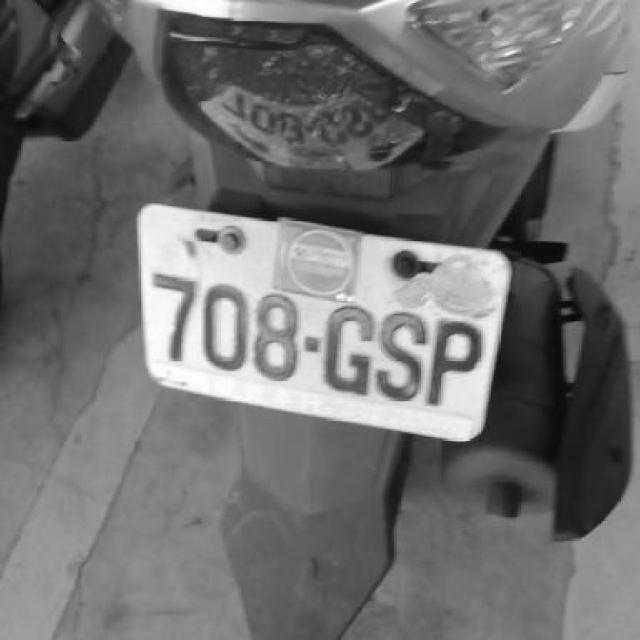0: (197, 277, 250, 373), (301, 332, 318, 352)
7: (148, 269, 198, 362)
8: (249, 290, 297, 383)
G: (319, 302, 374, 398)
P: (423, 314, 484, 407)
S: (373, 309, 427, 405)
